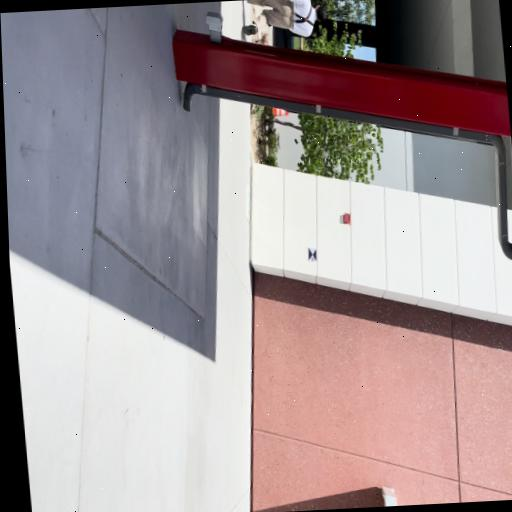target9: (308, 248, 316, 262)
